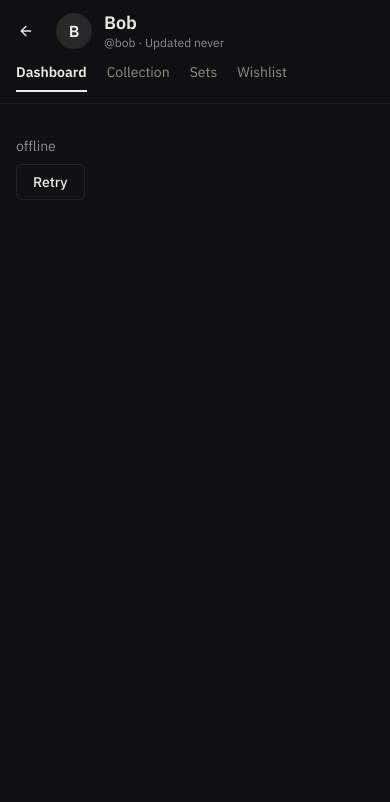
Test case: a friend's binder › offers Retry when the dashboard fails, and recovers
The width and height of the screenshot is (390, 802).
Expected: the message reads "offline", [16, 136, 56, 154]
Click the button "Retry".
click(50, 182)  # box [16, 164, 84, 200]
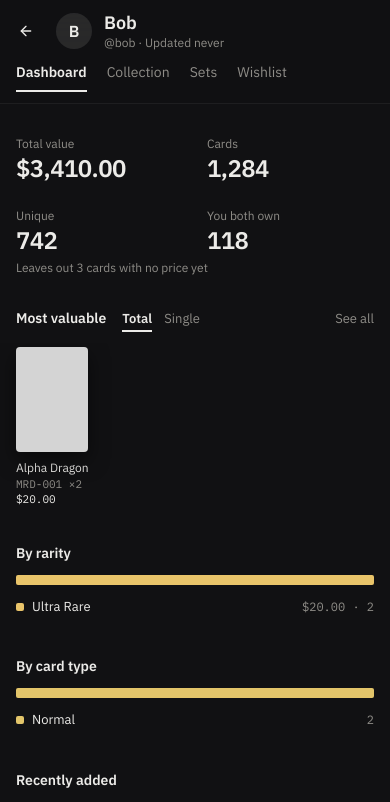
Now the element named "Stats" is shown, box [16, 136, 280, 274]
